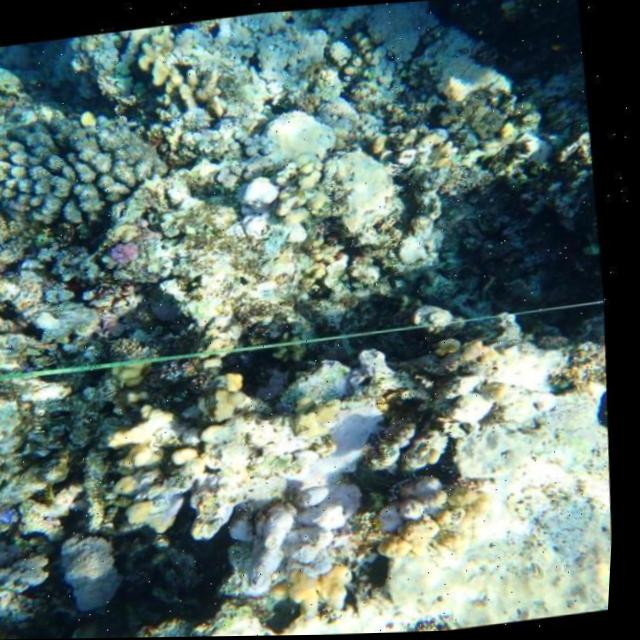Bleached Coral: (0, 92, 166, 224), (230, 480, 368, 595), (213, 111, 315, 212), (291, 397, 388, 489), (381, 476, 453, 531)
Healthy Coral: (103, 242, 142, 268)
